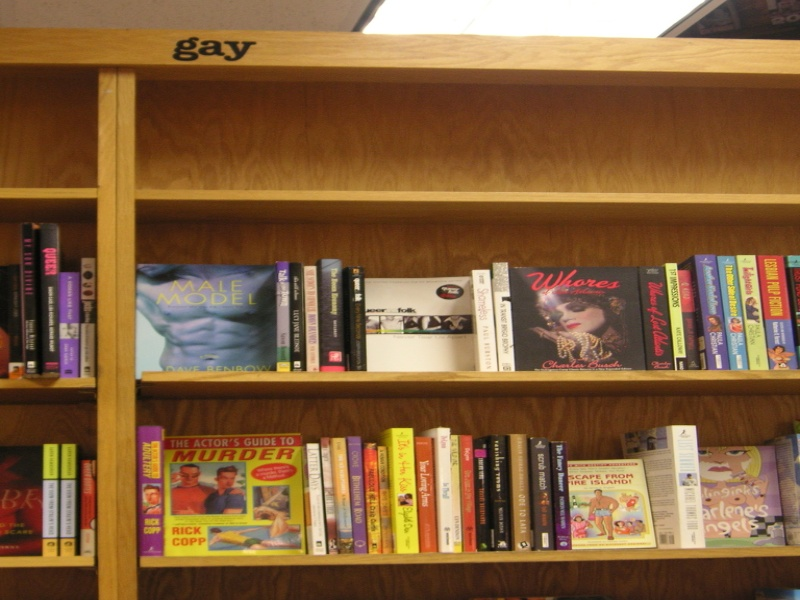book: (469, 256, 641, 374), (132, 257, 277, 370), (16, 215, 105, 371), (610, 423, 710, 550), (131, 416, 167, 557)
